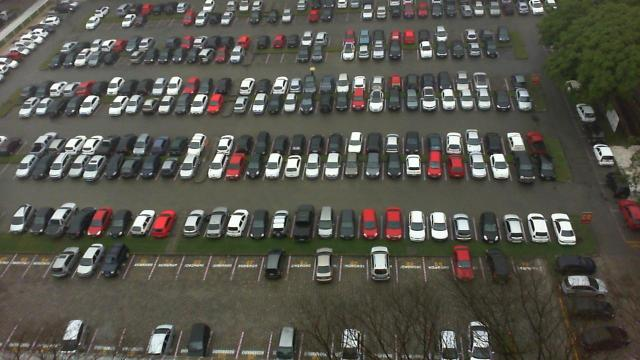empty: (123, 249, 157, 282), (147, 250, 181, 280), (230, 253, 264, 283), (21, 250, 55, 278), (205, 252, 238, 280), (176, 251, 208, 279), (288, 253, 314, 284)
occupied: (94, 250, 132, 282), (70, 251, 106, 282), (44, 250, 78, 280), (544, 209, 576, 240), (222, 208, 254, 238), (499, 210, 527, 242), (260, 253, 290, 282), (313, 254, 342, 284), (117, 152, 145, 182), (64, 207, 92, 237), (476, 209, 502, 241), (523, 208, 549, 240), (82, 208, 111, 236), (106, 209, 134, 237), (136, 151, 162, 181), (222, 153, 248, 183), (428, 211, 454, 241), (452, 210, 478, 240), (148, 210, 175, 238), (358, 209, 382, 240), (153, 154, 179, 182), (127, 208, 153, 236), (203, 208, 229, 236), (246, 209, 272, 237), (268, 210, 294, 238), (262, 152, 286, 182), (312, 210, 336, 240), (530, 153, 556, 180), (240, 154, 264, 182), (290, 210, 314, 238), (334, 210, 358, 238), (406, 210, 428, 240), (102, 152, 125, 180), (175, 154, 198, 182), (382, 209, 404, 238), (442, 127, 466, 153), (483, 128, 507, 154), (486, 154, 510, 180), (182, 210, 206, 236), (148, 132, 172, 156), (444, 156, 468, 180), (130, 133, 156, 155), (112, 134, 140, 154), (282, 154, 302, 182), (304, 154, 324, 182), (206, 154, 224, 184), (138, 93, 162, 115), (155, 92, 177, 116), (172, 92, 194, 116), (188, 92, 210, 116), (188, 134, 212, 156), (381, 130, 403, 154), (526, 129, 548, 153), (509, 156, 531, 180), (404, 127, 424, 153), (424, 129, 444, 155), (464, 128, 484, 154), (506, 128, 526, 154), (322, 156, 342, 182), (404, 154, 424, 180), (468, 155, 488, 181), (230, 92, 252, 115), (511, 88, 534, 110), (204, 94, 226, 116), (229, 133, 251, 155), (287, 132, 309, 154), (168, 134, 192, 154), (344, 130, 364, 154), (363, 156, 383, 180), (426, 156, 446, 180), (384, 155, 402, 181), (213, 135, 235, 155), (268, 133, 290, 153), (307, 131, 327, 153), (324, 132, 344, 154), (364, 132, 384, 154), (282, 92, 300, 115), (458, 91, 478, 111), (494, 90, 514, 110), (252, 132, 272, 152), (299, 93, 317, 115), (478, 89, 496, 111), (346, 156, 362, 180), (250, 93, 268, 114), (267, 92, 283, 115), (332, 93, 350, 113), (368, 92, 386, 112), (422, 92, 440, 110), (440, 91, 458, 109), (351, 92, 367, 112), (388, 92, 404, 112), (404, 92, 421, 110), (316, 93, 332, 112)
